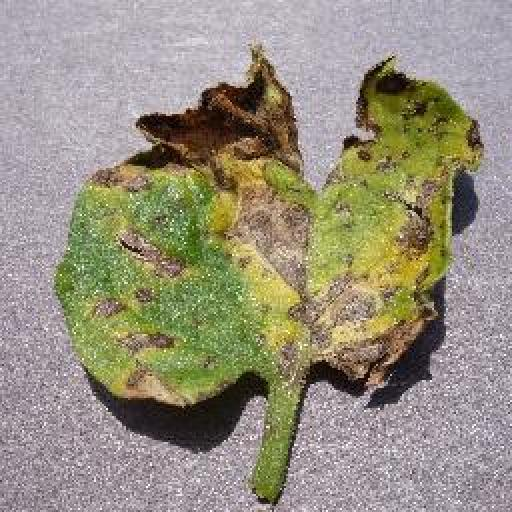Septoria: (64, 45, 487, 407)
